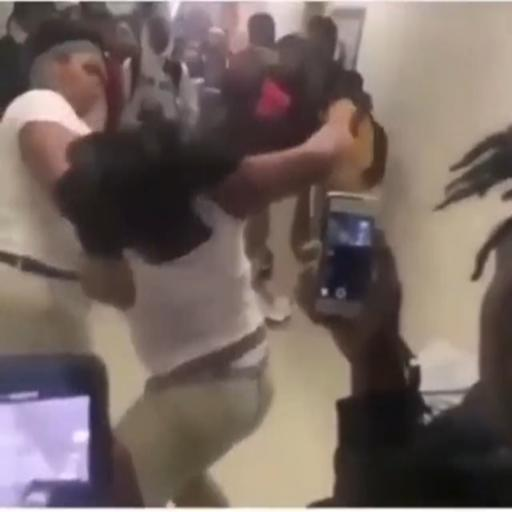violencia: (0, 18, 360, 512)
